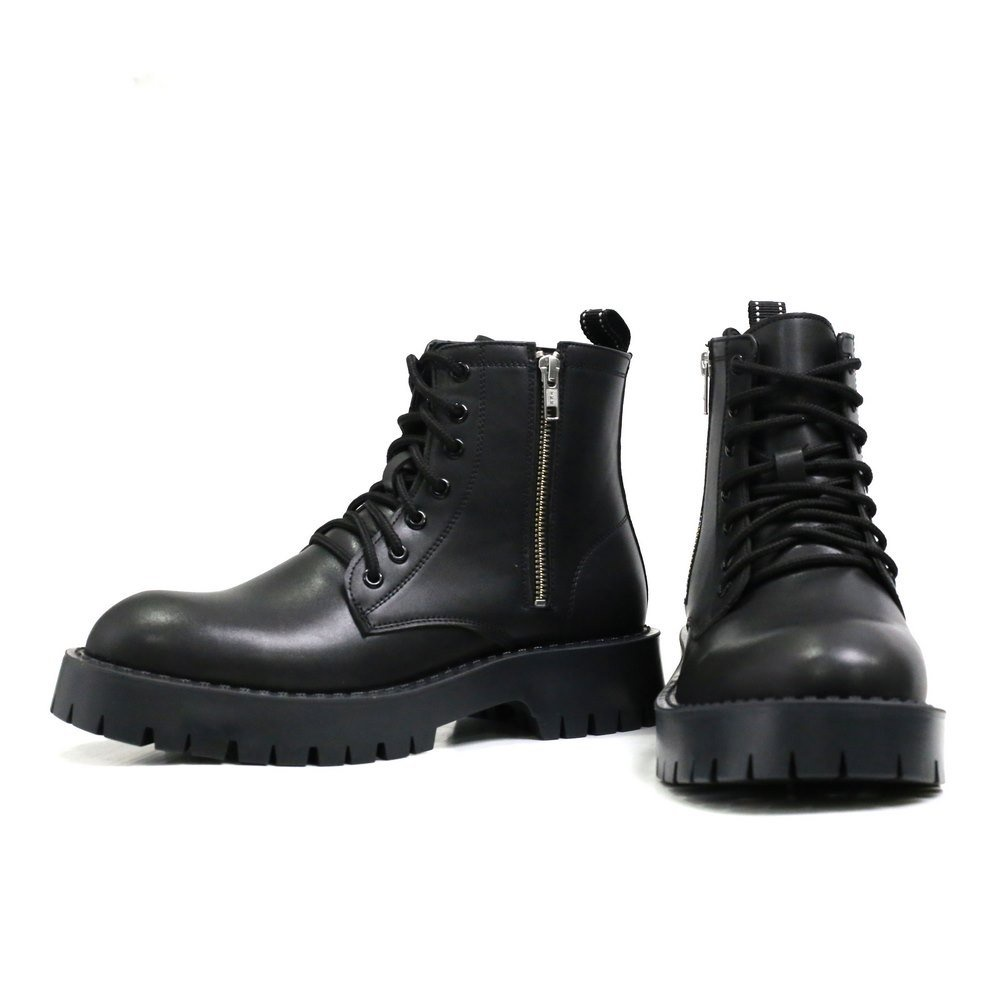boots: (50, 304, 672, 765), (654, 302, 945, 809)
